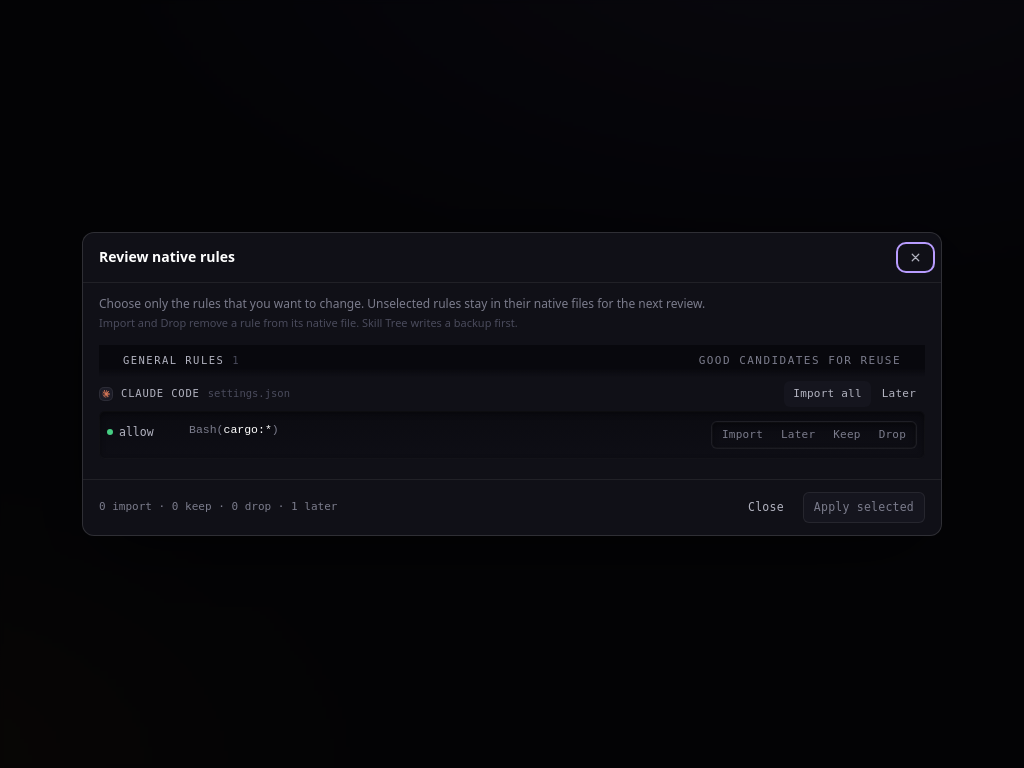
Test: Reconcile drawer (ImportMergeDialog) › surfaces an apply failure without closing
The width and height of the screenshot is (1024, 768).
Click the radio button labelled "Import" at (743, 434), box [722,428,763,441]
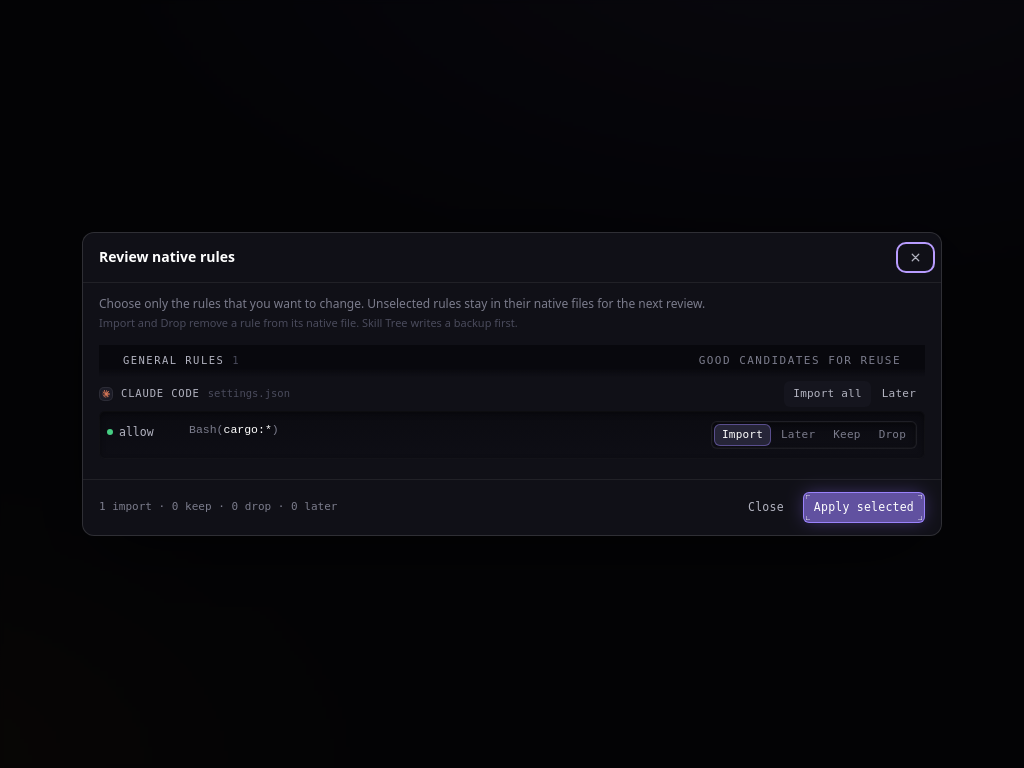
Click the button "Apply selected" at (864, 507), box [803,492,925,523]
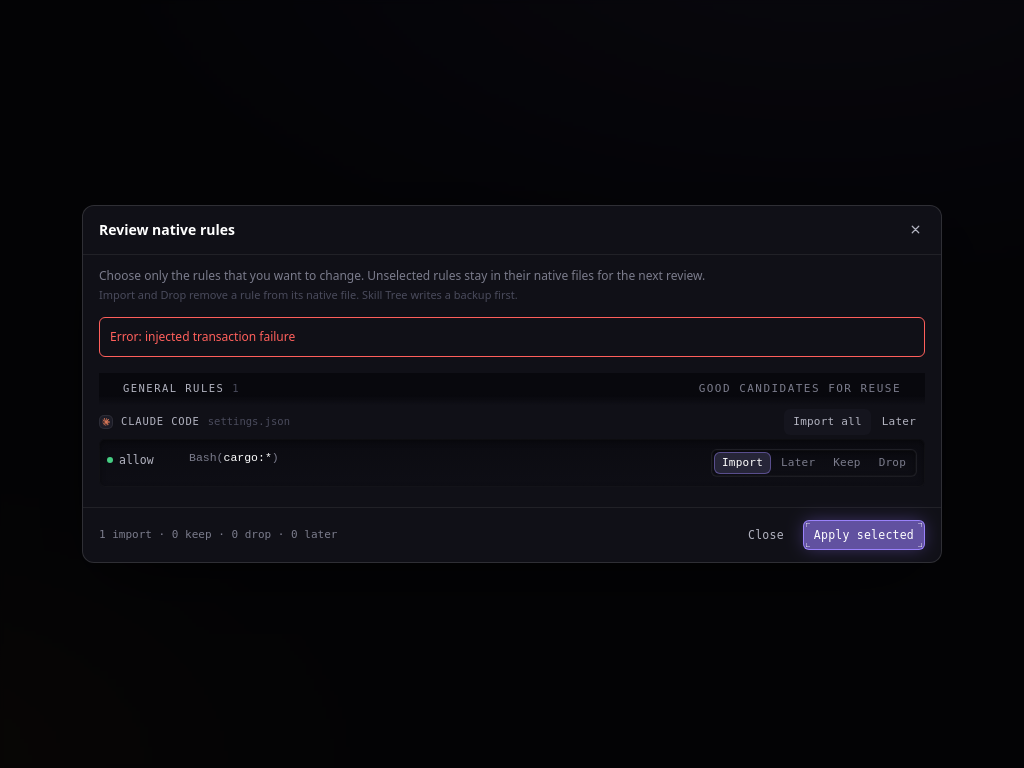
Expected: the button "Apply selected" is shown, [803,520,925,550]
Expected: the message "Error: injected transaction failure" is shown, [99,317,925,357]
Expected: the message shows "injected transaction failure", [110,328,295,345]
